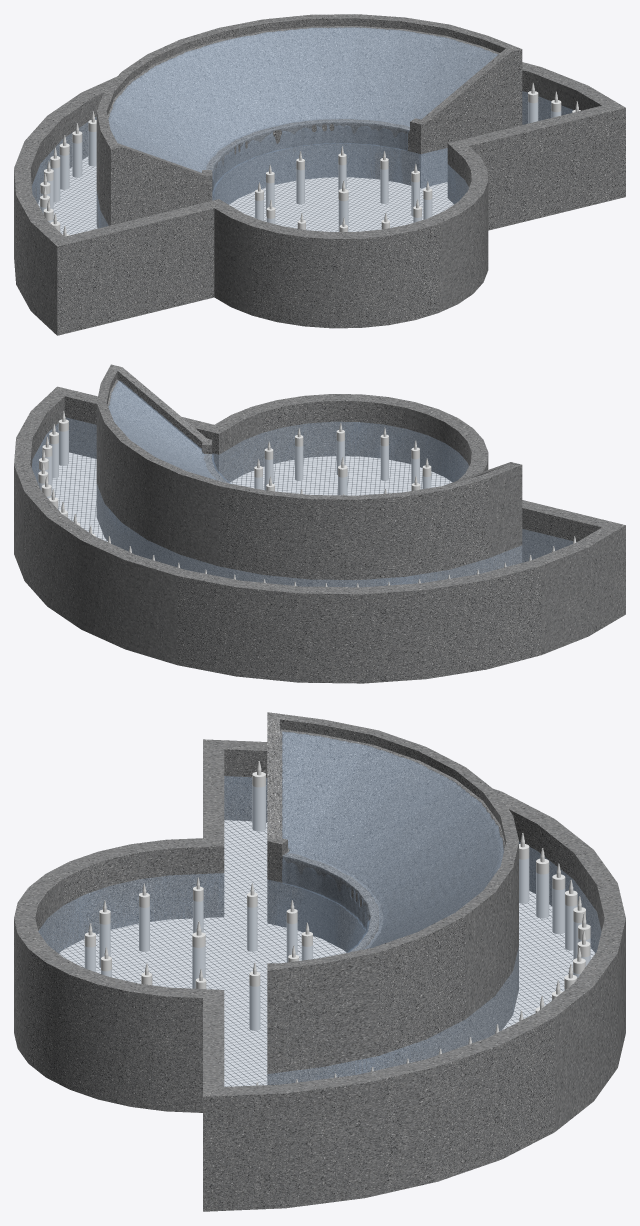
Rendered from fountain.gltf.
3 views of the same model, one above another, from view 1: azimuth 30°, elevation 25°; view 2: azimuth 150°, elevation 25°; view 3: azimuth 270°, elevation 25° (orthographic). The views are drawn at different scales.
Parts seen in each view (by area): view 1: Cylinder, Cylinder.002, Cylinder.003, Cylinder.001, Farsunka.010, Farsunka.009; view 2: Cylinder, Cylinder.003, Cylinder.001, Cylinder.002, Farsunka.029; view 3: Cylinder, Cylinder.003, Cylinder.002, Cylinder.001, Farsunka.002, Farsunka.011, Farsunka.012, Farsunka.036, Farsunka.031, Farsunka.010, Farsunka.032, Farsunka.042.
Boxes of the visible parts, bbox=[...] form: Cylinder: bbox=[14, 14, 625, 335]; Cylinder.002: bbox=[108, 27, 497, 197]; Cylinder.003: bbox=[32, 91, 572, 234]; Cylinder.001: bbox=[38, 156, 453, 235]; Farsunka.010: bbox=[72, 123, 82, 177]; Farsunka.009: bbox=[59, 135, 69, 189]; Cylinder: bbox=[14, 364, 625, 683]; Cylinder.003: bbox=[32, 418, 572, 586]; Cylinder.001: bbox=[38, 452, 452, 541]; Cylinder.002: bbox=[108, 381, 231, 483]; Farsunka.029: bbox=[58, 411, 68, 465]; Cylinder: bbox=[14, 712, 625, 1211]; Cylinder.003: bbox=[38, 776, 601, 1086]; Cylinder.002: bbox=[282, 731, 503, 952]; Cylinder.001: bbox=[59, 820, 595, 1086]; Farsunka.002: bbox=[252, 761, 265, 831]; Farsunka.011: bbox=[536, 848, 549, 918]; Farsunka.012: bbox=[552, 863, 565, 934]; Farsunka.036: bbox=[249, 962, 260, 1030]; Farsunka.031: bbox=[192, 921, 205, 988]; Farsunka.010: bbox=[519, 833, 529, 903]; Farsunka.032: bbox=[247, 883, 257, 951]; Farsunka.042: bbox=[139, 883, 149, 951].
Bounding box in the file's own units: 20 × 5 × 14.47.
Materials: 4 (2 with a texture image).
